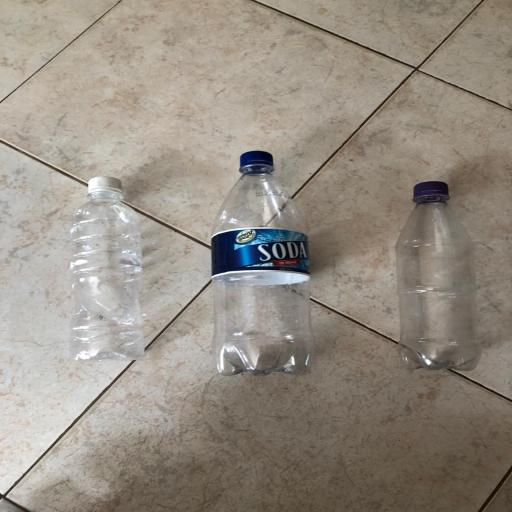waste: (185, 142, 337, 397), (385, 174, 502, 387), (61, 174, 151, 373)
